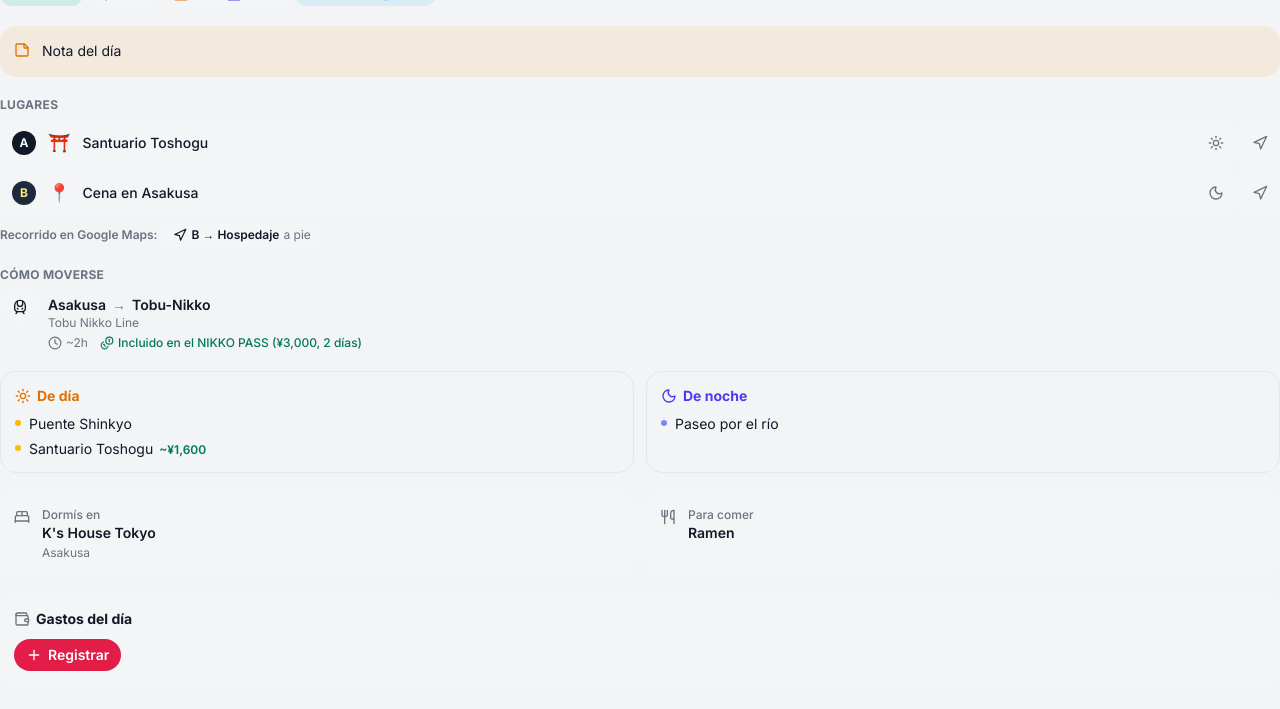
DayDetail › gastos del día › registra un gasto de ese día desde el modal
(page scrolled)
Click the button "Registrar": (68, 654) 14,638 -> 121,670
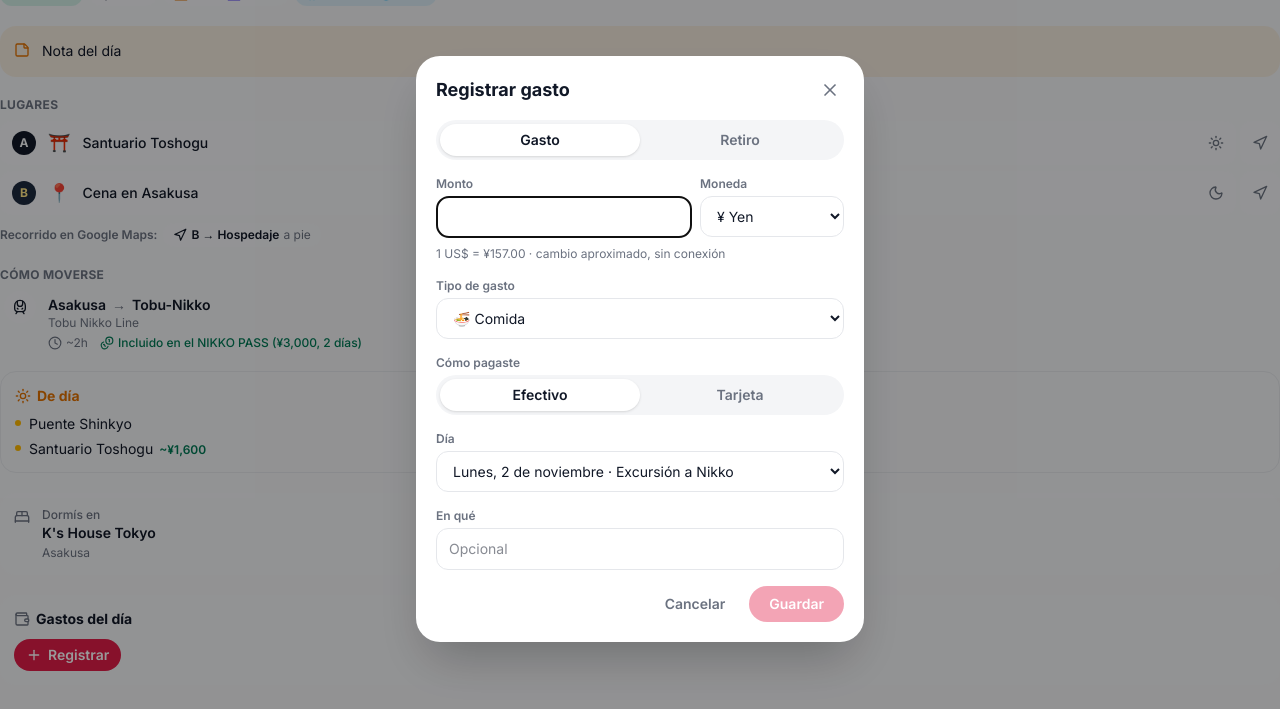
In the field labelled "Monto": (564, 217) 436,196 -> 692,238, type "2500"
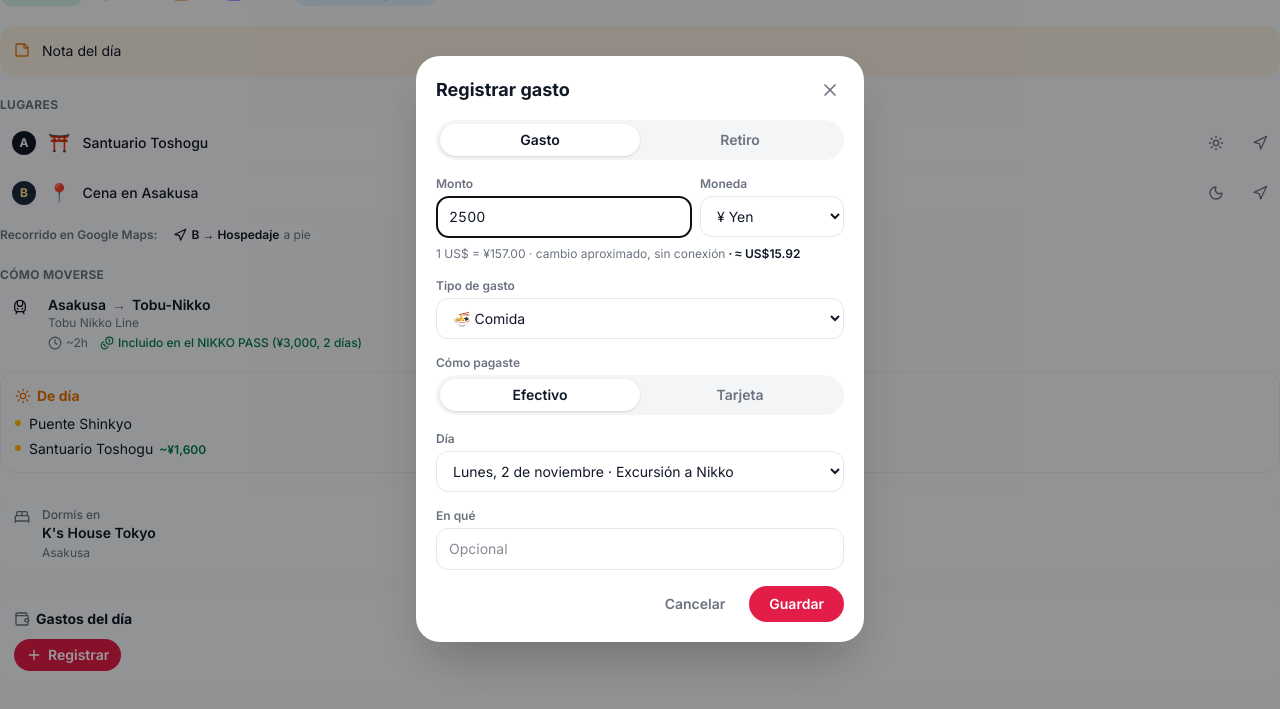
In the field labelled "En qué": (640, 549) 436,528 -> 844,570, type "Bici"
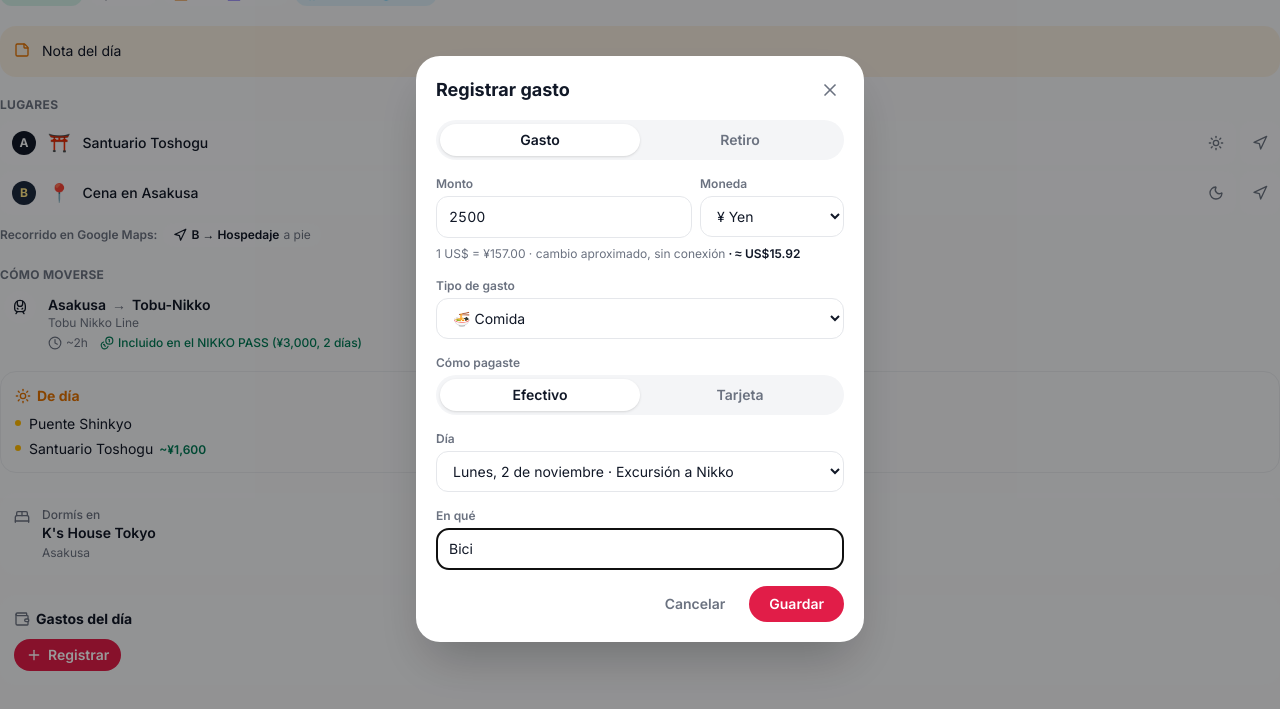
Click the button "Guardar": (797, 604) 749,586 -> 844,622
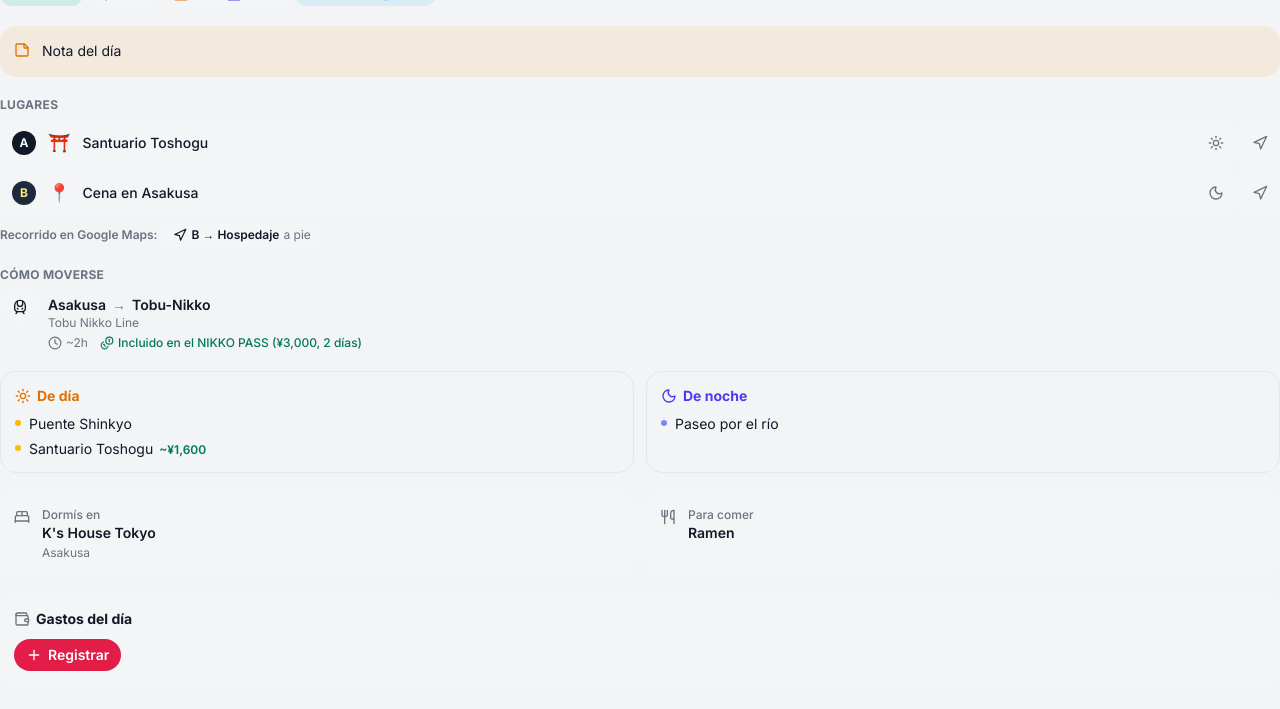
Now the dialog is gone
